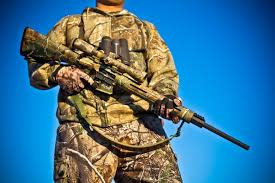Gun: (75, 39, 182, 127)
